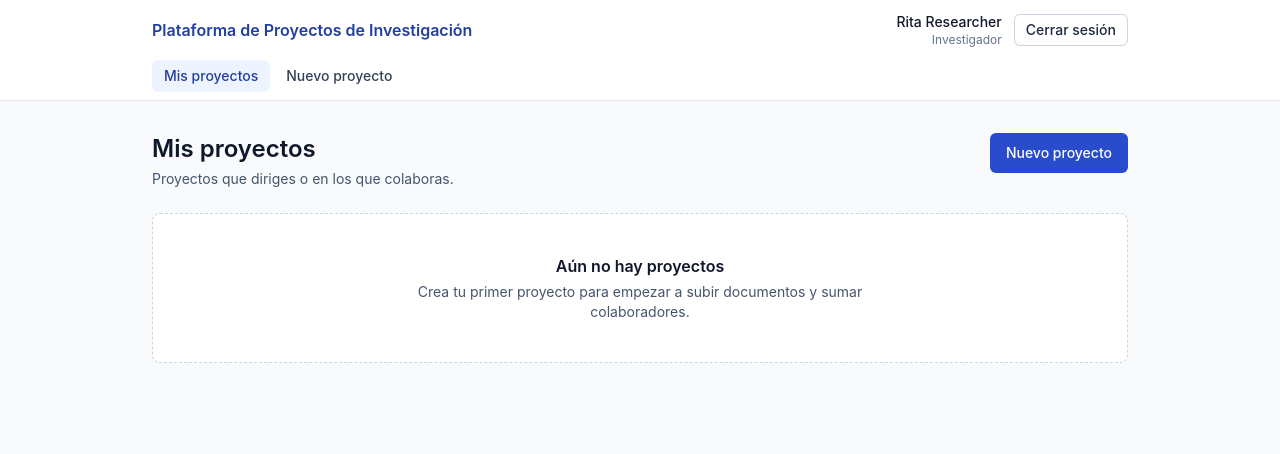
Test: protected routes and session › logs out: clears the token and returns to /login
Click the button "Cerrar sesión" at [1071, 30], box [1014, 14, 1128, 46]
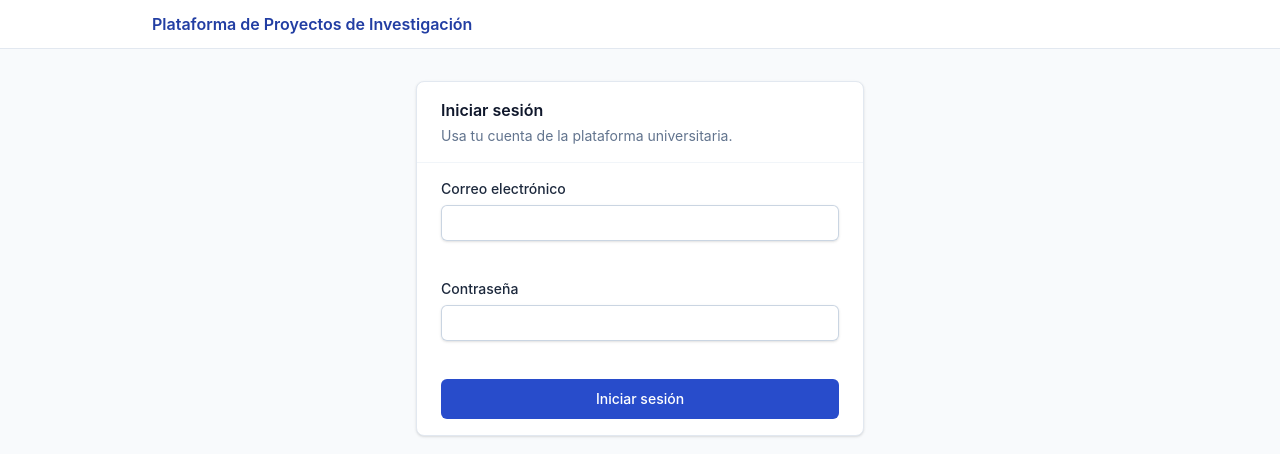
Result: the heading "Iniciar sesión" is shown at [441, 100, 543, 120]
